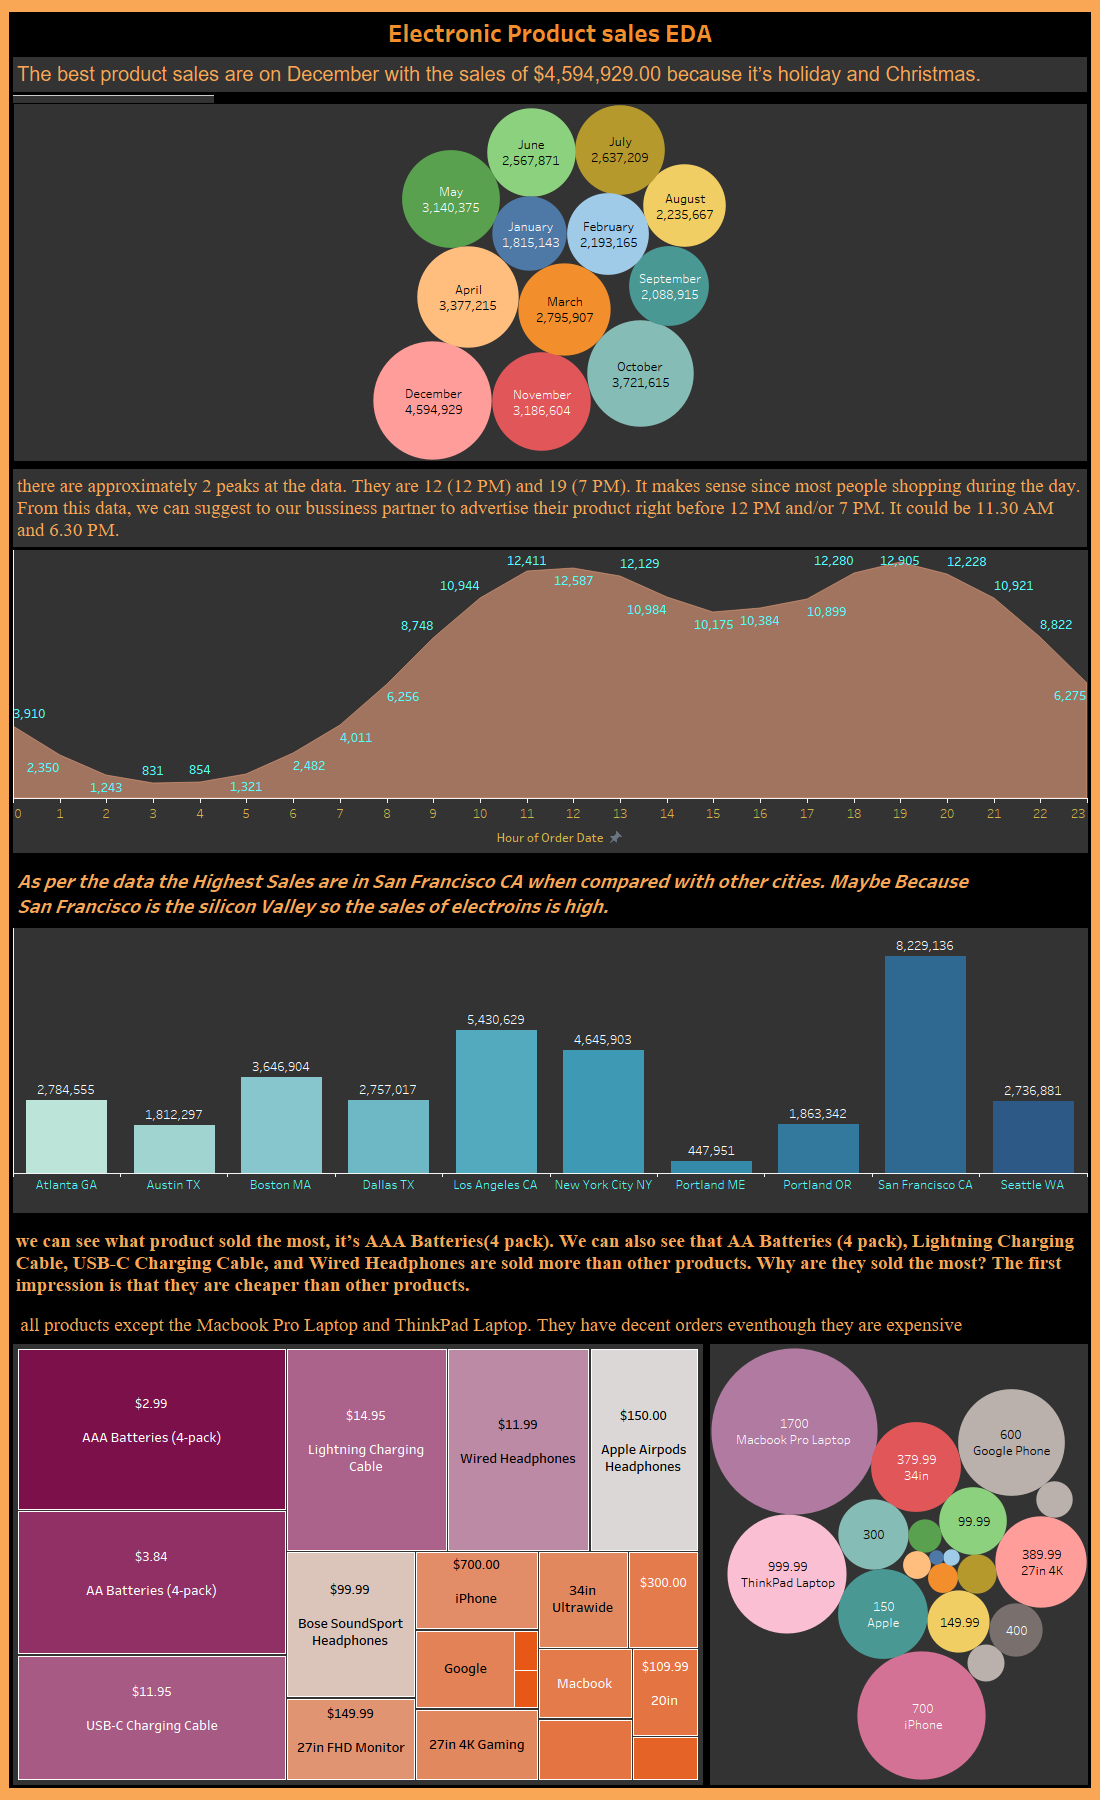

Layout of this report page (visuals, bound fields, positions):
{"tool":"tableau","page":{"name":"Dashboard 1","canvas":[1100,1800],"ordinal":0},"visuals":[{"type":"title","box":[8.8,12,1082.4,41]},{"type":"worksheet","title":"Sheet 2","mark":"Automatic","rows":["Order Date"],"box":[8.8,53,1082.4,46]},{"type":"worksheet","title":"Sheet 1","mark":"Circle","box":[8.8,99,1082.4,366]},{"type":"worksheet","title":"Sheet 3","mark":"Area","rows":["Quantity Ordered"],"cols":["Order Date"],"box":[8.8,465,1082.4,392]},{"type":"worksheet","title":"Sheet 4","mark":"Automatic","rows":["Calculation_653021996402409472"],"cols":["Calculation_653021996410490882"],"box":[8.8,857,1082.4,360]},{"type":"text","box":[8.8,1217,1082.4,93]},{"type":"text","box":[8.8,1309.9,1082.4,30]},{"type":"worksheet","title":"Sheet 5","mark":"Automatic","box":[8.8,1339.9,697.4,448.1]},{"type":"worksheet","title":"Sheet 10","mark":"Circle","box":[706.2,1339.9,385,448.1]}]}

Visuals, with their boxes in screenshot pixels (x1, y1, x2, y2), scaled from the page's 1100x1800 canvas onto the 1100x1800 screenshot:
title: l=9, t=12, r=1091, b=53
"Sheet 2" worksheet: l=9, t=53, r=1091, b=99
"Sheet 1" worksheet (Circle marks): l=9, t=99, r=1091, b=465
"Sheet 3" worksheet (Area marks): l=9, t=465, r=1091, b=857
"Sheet 4" worksheet: l=9, t=857, r=1091, b=1217
text: l=9, t=1217, r=1091, b=1310
text: l=9, t=1310, r=1091, b=1340
"Sheet 5" worksheet: l=9, t=1340, r=706, b=1788
"Sheet 10" worksheet (Circle marks): l=706, t=1340, r=1091, b=1788
